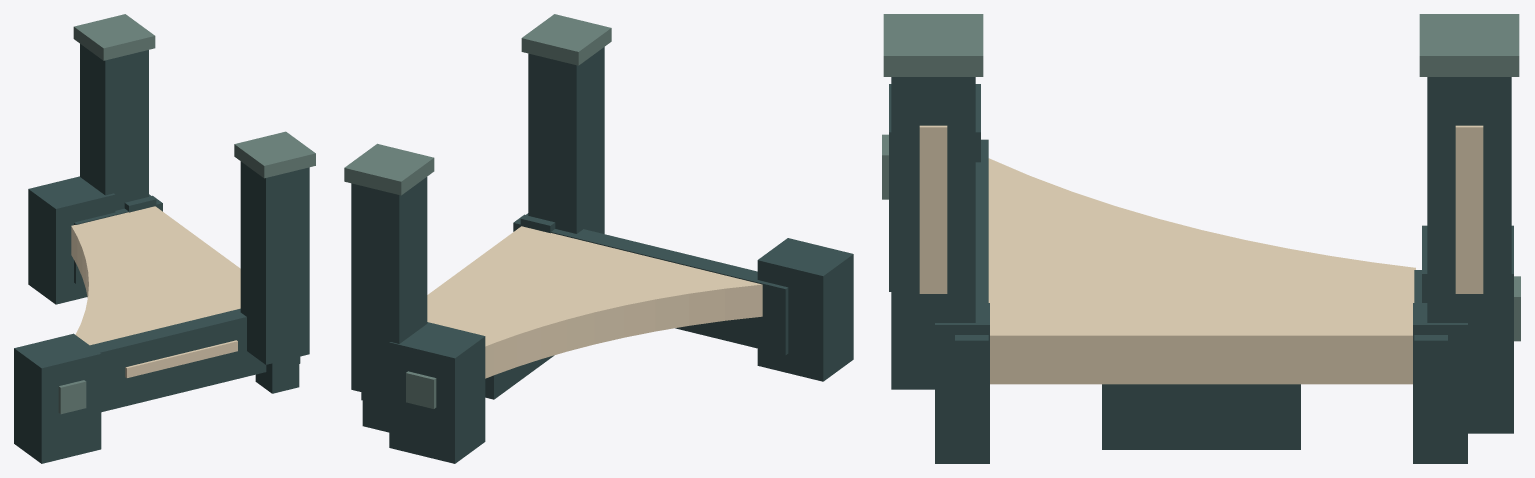
Rendered from Pier_Angled_30_Switch_lab2.glb.
The picture shows the model from 3 angles, left to right: view 1: azimuth 30°, elevation 25°; view 2: azimuth 150°, elevation 25°; view 3: azimuth 270°, elevation 25°; orthographic projection. The views are drawn at different scales.
Parts seen in each view (by area): view 1: Pier_Angled_30_Switch; view 2: Pier_Angled_30_Switch; view 3: Pier_Angled_30_Switch.
Boxes of the visible parts, box(x1,y1,x2,y2) form: Pier_Angled_30_Switch: box(14, 14, 315, 463); Pier_Angled_30_Switch: box(344, 14, 853, 463); Pier_Angled_30_Switch: box(882, 14, 1520, 463).
Size of the model in its own units: 3.51 by 2.95 by 4.17.
